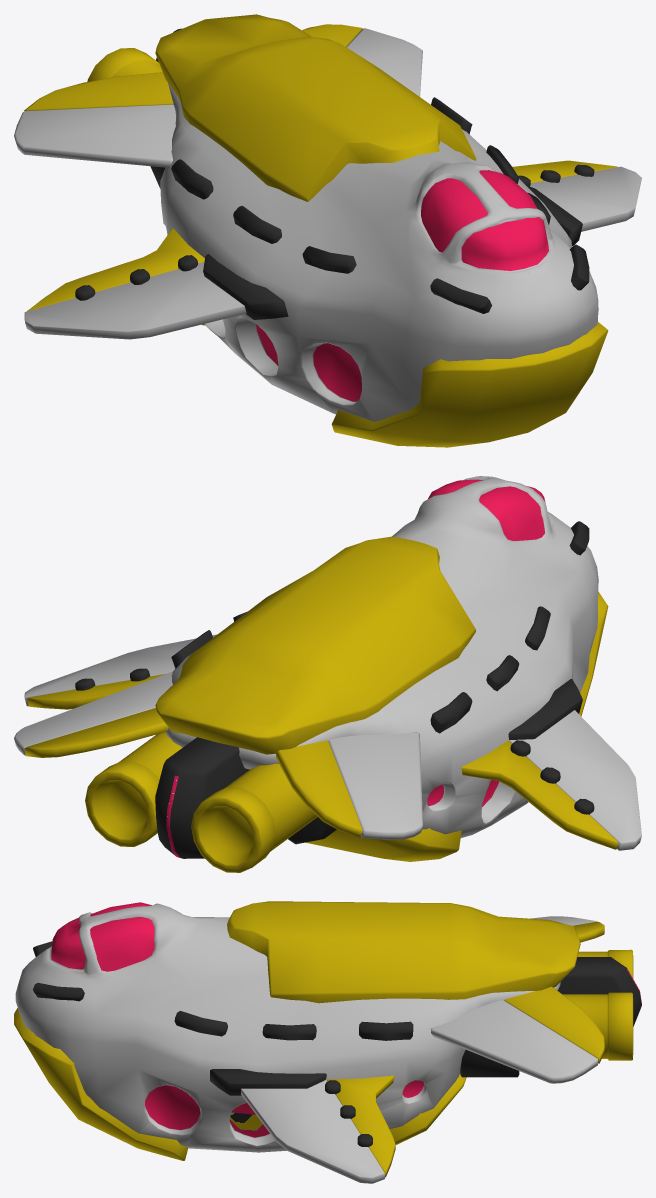
The picture shows the model from 3 angles, top to bottom: view 1: azimuth 30°, elevation 25°; view 2: azimuth 150°, elevation 25°; view 3: azimuth 270°, elevation 25°; orthographic projection. The views are drawn at different scales.
Parts seen in each view (by area): view 1: Transporter.003; view 2: Transporter.003; view 3: Transporter.003.
Boxes of the visible parts, x1,y1,x2,y2 form: Transporter.003: (14, 14, 641, 447); Transporter.003: (14, 476, 641, 872); Transporter.003: (14, 901, 641, 1183).
Bounding box in the file's own units: 10.38 × 4.36 × 11.16.
